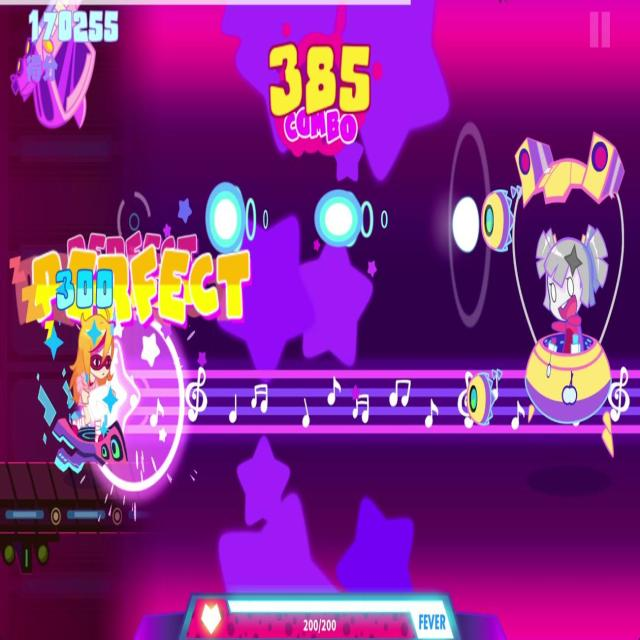che: (17, 5, 102, 136)
hold: (88, 332, 640, 446)
qiangboss: (462, 108, 623, 420)
yuan: (312, 185, 388, 248), (207, 179, 273, 250)
